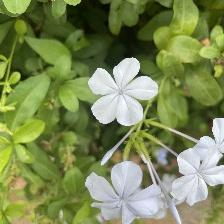chitrak: (86, 57, 157, 131), (83, 159, 159, 224), (174, 145, 224, 202)
